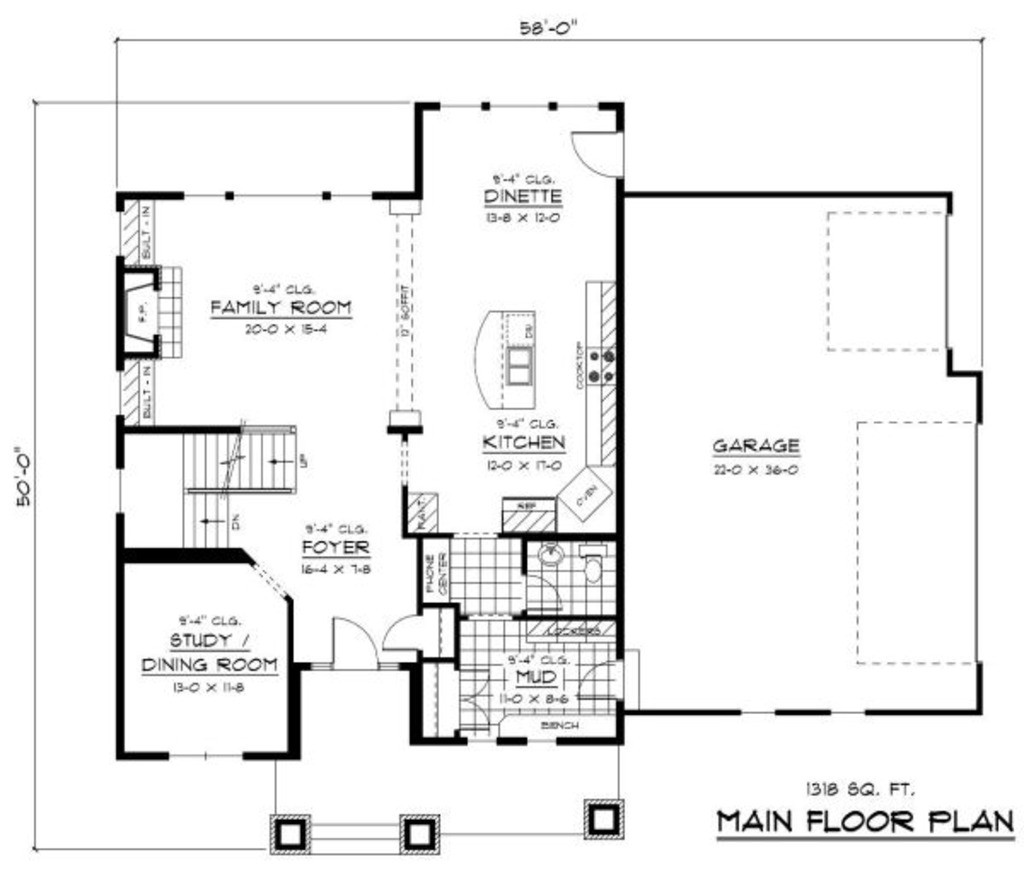door: (565, 127, 629, 179), (330, 617, 378, 671), (457, 670, 491, 730), (381, 615, 425, 654)
kitchen_bar: (469, 305, 541, 413)
large_sink: (573, 534, 612, 586)
stairs: (120, 425, 303, 558)
windows: (174, 181, 376, 210), (429, 101, 600, 114), (166, 746, 246, 767)
